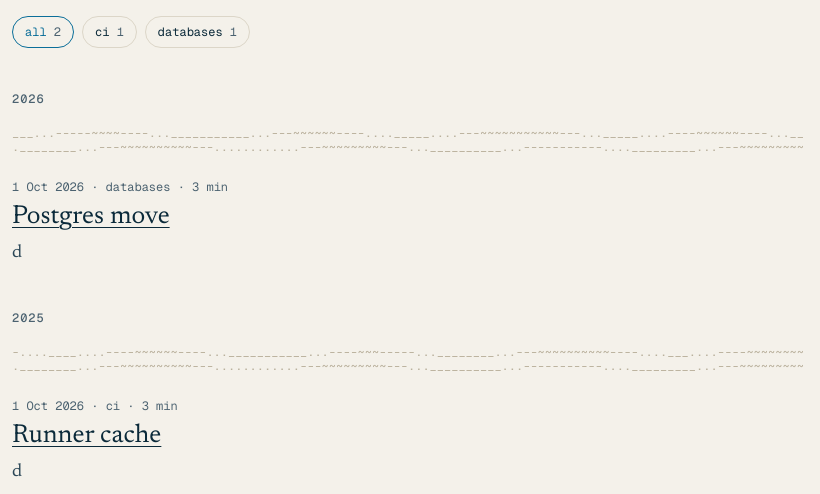
Test: writing components › filters posts by topic
This screenshot has width=820, height=494.
Step 1. Click the button "ci 1" → (109, 32), box [82,16,137,48]
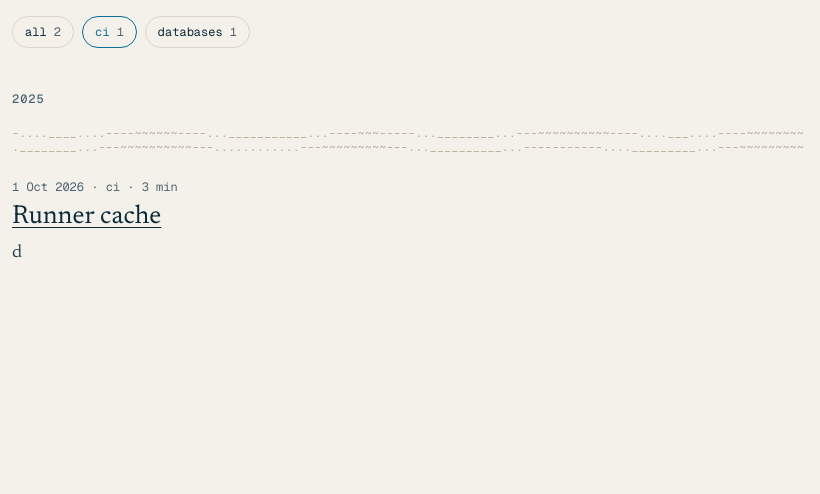
Expected: the link "Runner cache" is shown, [12,204,161,230]
Now the link "Postgres move" is gone
